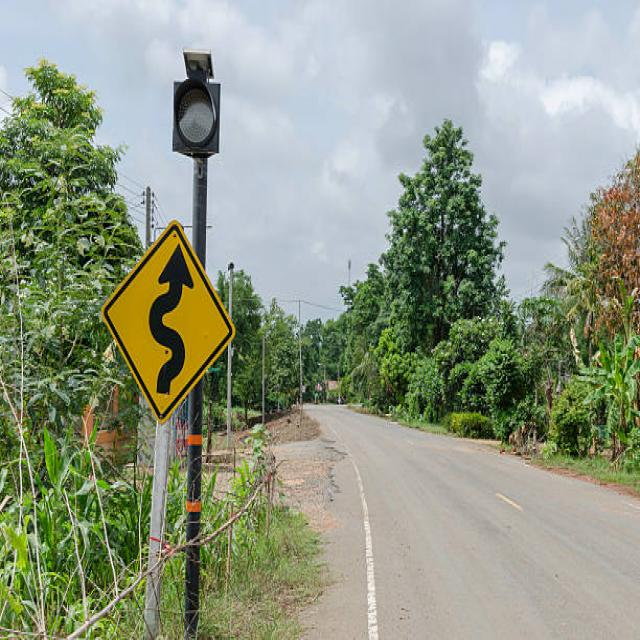left_sharp_curve: (92, 214, 249, 430)
